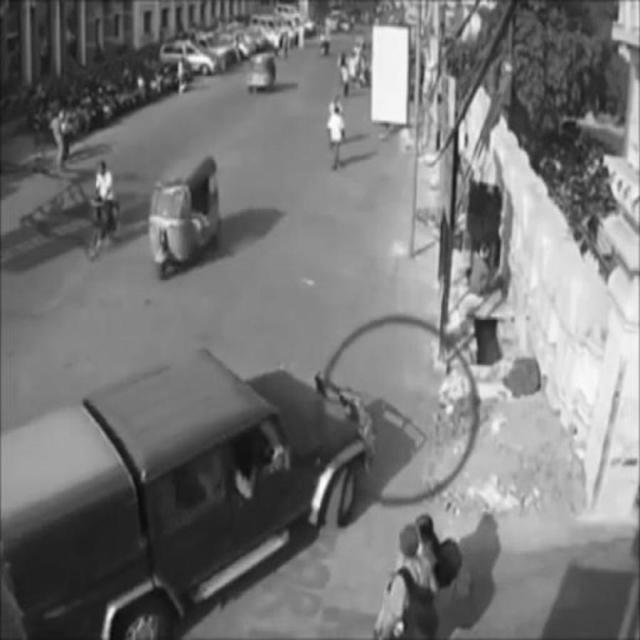accident: (6, 364, 373, 637)
person: (328, 105, 346, 171)
vehicle: (148, 157, 224, 281), (83, 159, 123, 260), (249, 54, 271, 92)
